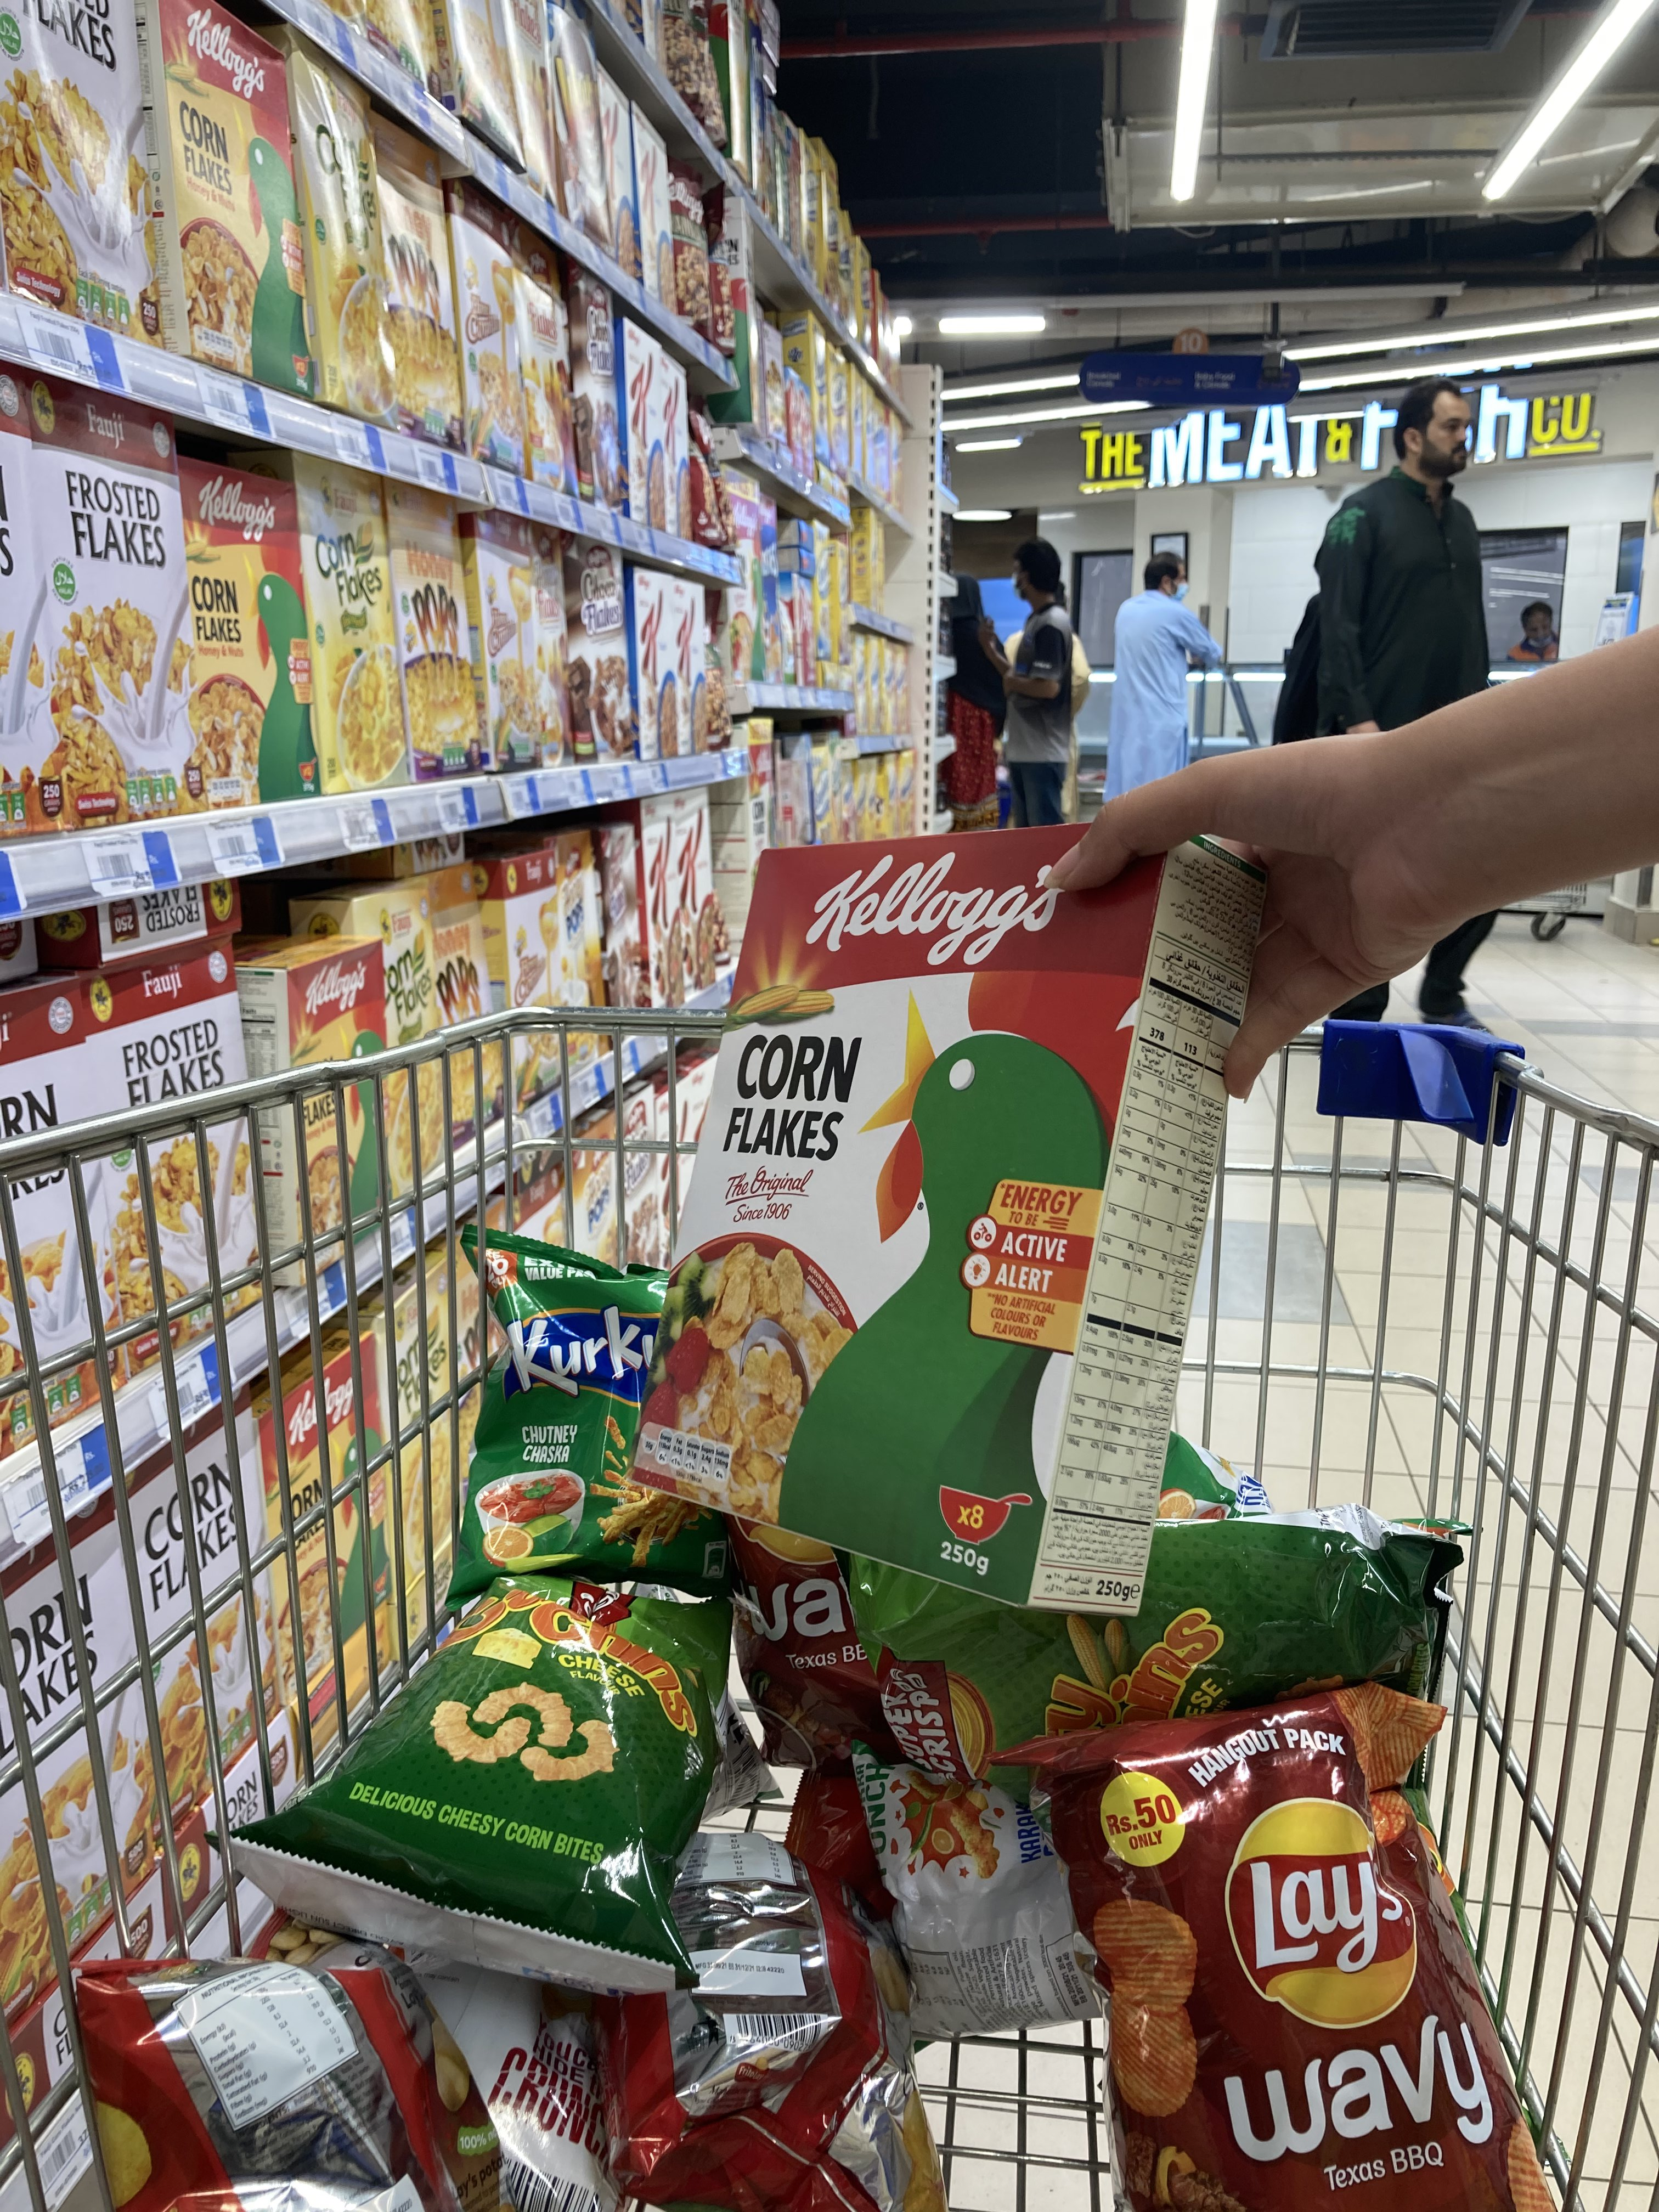Kellogg's Corn Flakes: (615, 819, 1253, 1637)
